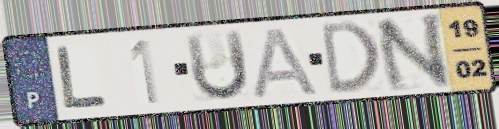1: (128, 38, 161, 104)
A: (251, 25, 322, 100)
D: (318, 18, 382, 98)
L: (52, 44, 112, 112)
N: (372, 10, 455, 95)
U: (181, 27, 252, 104)
